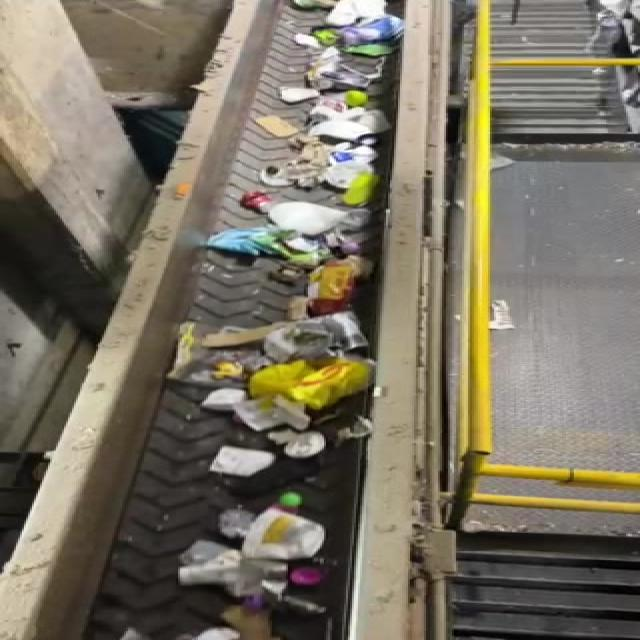paper: (212, 444, 284, 480)
pp: (162, 557, 342, 613), (242, 488, 332, 567), (267, 429, 328, 461)
